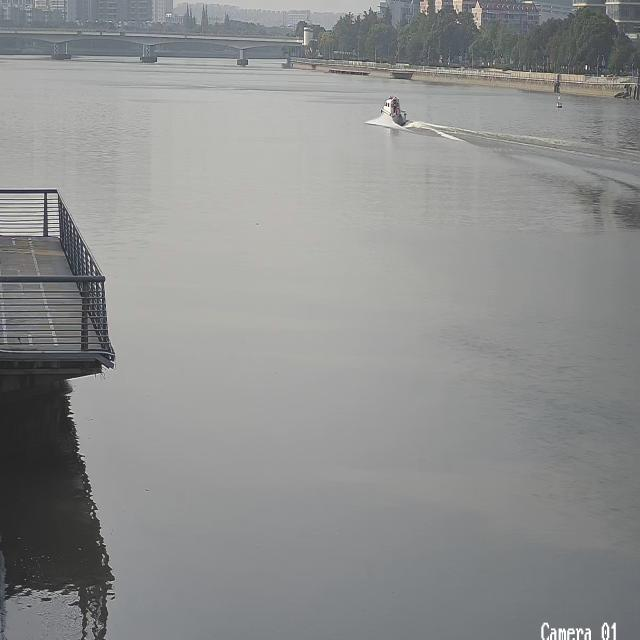ship: (380, 88, 406, 125)
